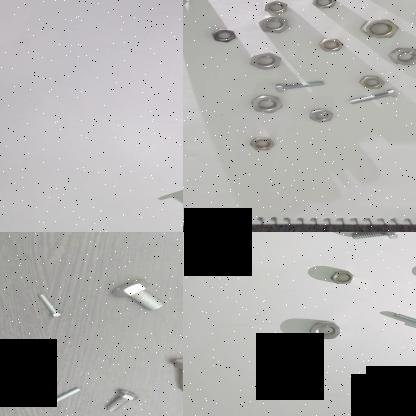Bolts: (104, 273, 166, 314), (0, 348, 52, 370), (96, 390, 142, 414), (40, 387, 84, 409), (342, 89, 398, 106), (34, 292, 64, 321), (263, 80, 328, 93), (163, 358, 183, 394), (344, 232, 406, 242)
NUTS: (354, 18, 402, 40), (307, 318, 344, 344), (247, 94, 281, 115), (249, 51, 284, 70), (324, 268, 357, 286), (387, 46, 416, 66), (258, 16, 290, 34), (304, 107, 334, 125), (208, 27, 238, 45), (355, 74, 386, 90), (256, 1, 289, 15), (247, 135, 274, 152), (316, 36, 344, 52), (307, 0, 336, 11)
